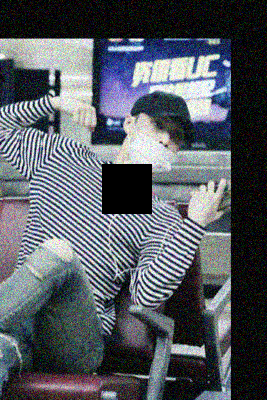mask_weared_incorrect: (130, 115, 183, 171)
